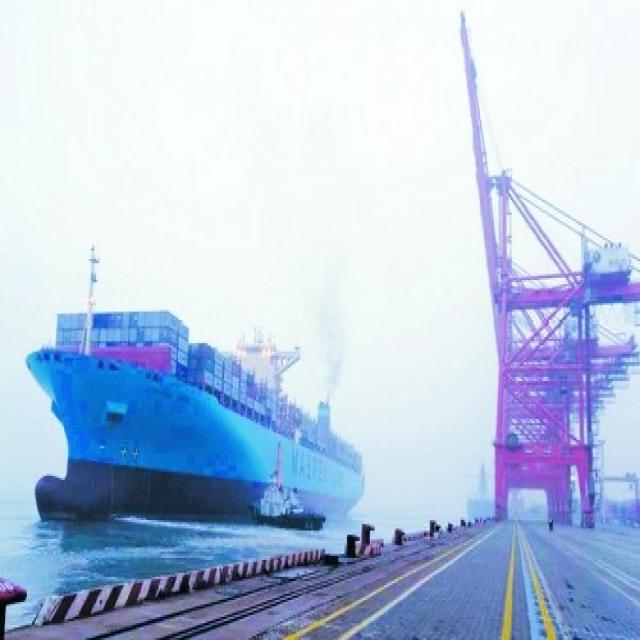cargoship: (21, 289, 368, 535)
houseboat: (248, 470, 322, 535)
